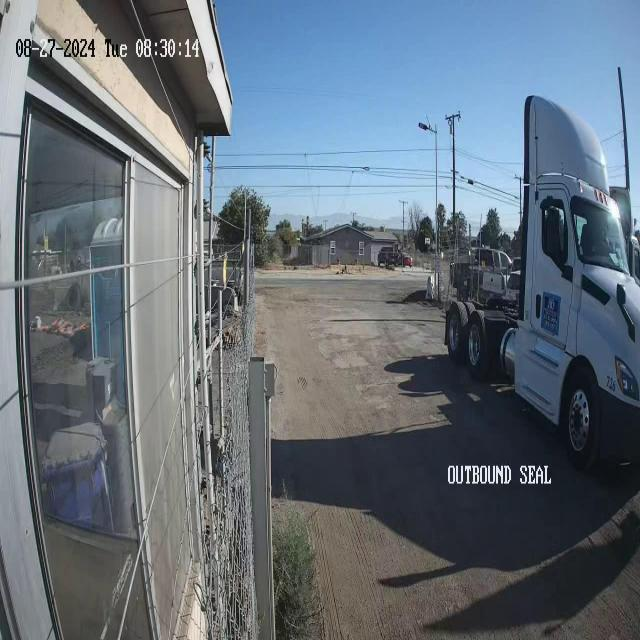TRUCK_IN: (443, 93, 639, 472)
